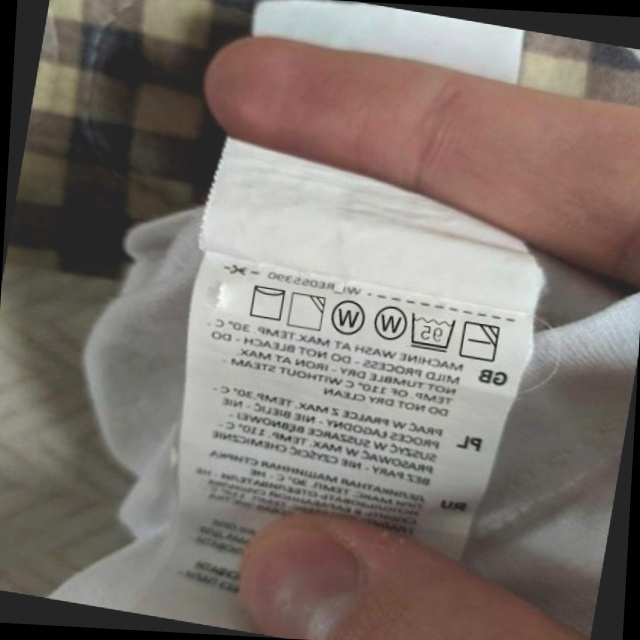95C: (404, 309, 459, 355)
dry_flat_in_shade: (457, 317, 503, 365)
line_dry: (244, 280, 289, 324)
shade_dry: (284, 288, 329, 334)
wet_clean: (326, 296, 369, 341), (368, 299, 410, 344)
